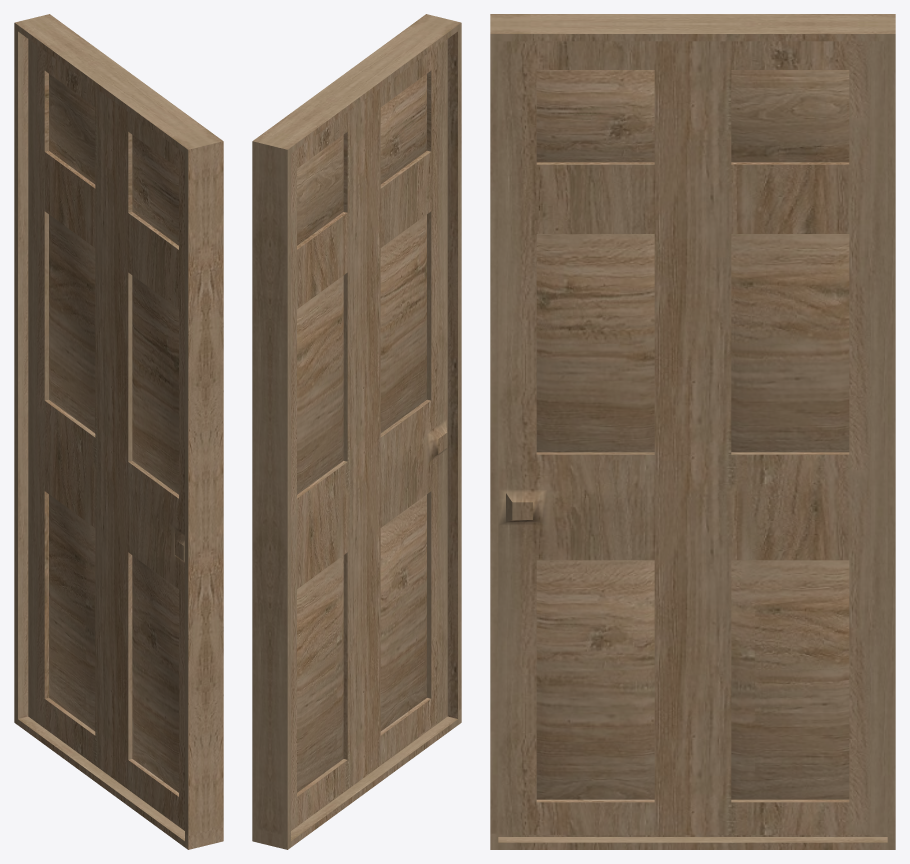
Rendered from door.FBX.
3 renders of one model, left to right at view 1: azimuth 30°, elevation 25°; view 2: azimuth 150°, elevation 25°; view 3: azimuth 270°, elevation 25°, orthographic. The views are drawn at different scales.
Parts seen in each view (by area): view 1: Box001; view 2: Box001; view 3: Box001.
Part boxes in pixels (left/top/right/bottom): Box001: left=14, top=14, right=223, bottom=849; Box001: left=252, top=14, right=461, bottom=849; Box001: left=490, top=14, right=895, bottom=849.
Bounding box in the file's own units: 4.22 × 80 × 36.
Materials: 1 (1 with a texture image).
